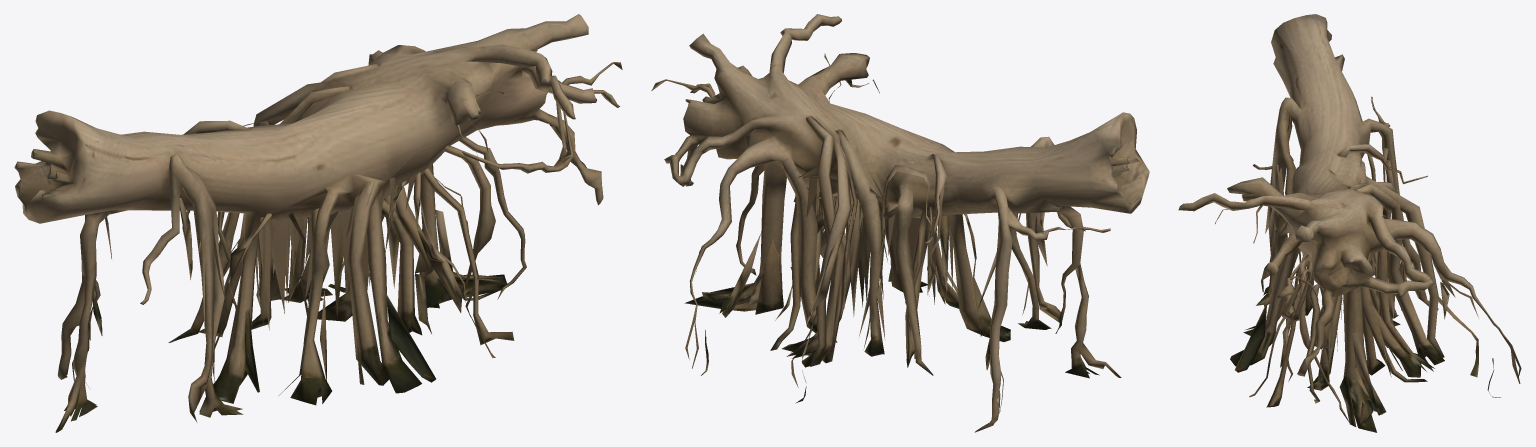
File: driftwood_roots.glb
3 views of the same model, side by side, from view 1: azimuth 30°, elevation 25°; view 2: azimuth 150°, elevation 25°; view 3: azimuth 270°, elevation 25° (orthographic). The views are drawn at different scales.
Bounding box in the file's own units: 0.9629 × 0.5356 × 0.6318.
Materials: 1 (1 with a texture image).
